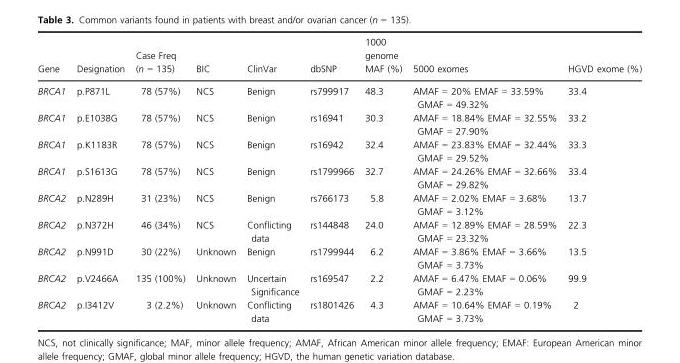table: (37, 37, 641, 323)
table column: (406, 37, 561, 323), (561, 37, 641, 323), (240, 37, 304, 323), (129, 37, 190, 323), (70, 37, 129, 323), (304, 37, 358, 323), (190, 37, 240, 323), (358, 37, 406, 323), (37, 37, 70, 323)
table column header: (37, 37, 641, 79)
table row: (37, 37, 641, 79), (37, 79, 641, 110), (37, 110, 641, 137), (37, 137, 641, 164), (37, 190, 641, 217), (37, 217, 641, 244), (37, 244, 641, 271), (37, 164, 641, 190), (37, 271, 641, 297), (37, 297, 641, 323)
